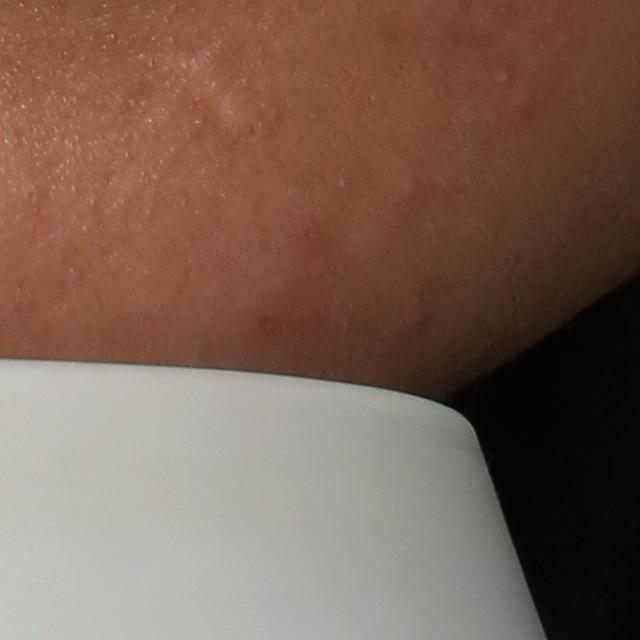comedo: (398, 177, 423, 200), (494, 68, 514, 88)
